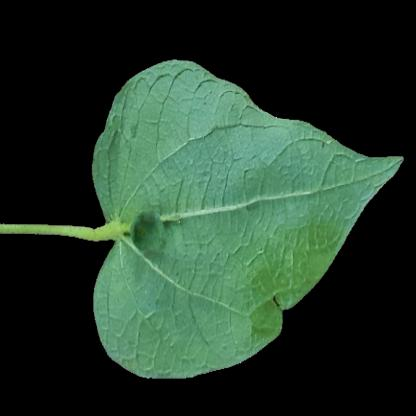curl_stage2: (183, 200, 258, 358), (128, 87, 231, 199), (232, 116, 295, 235), (103, 269, 181, 354), (300, 123, 347, 246), (261, 245, 307, 302)
leaf_enation: (114, 200, 180, 268)
